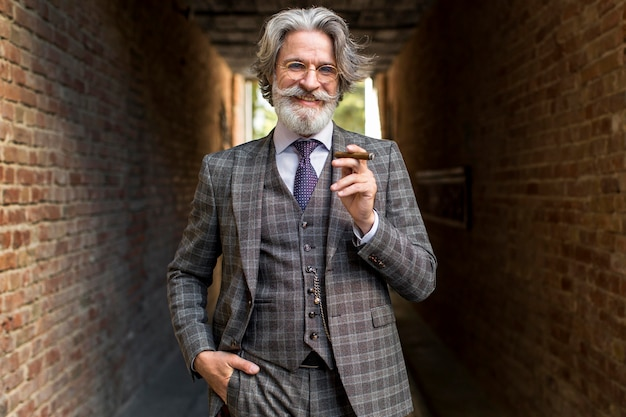cigarette: (331, 148, 375, 161)
